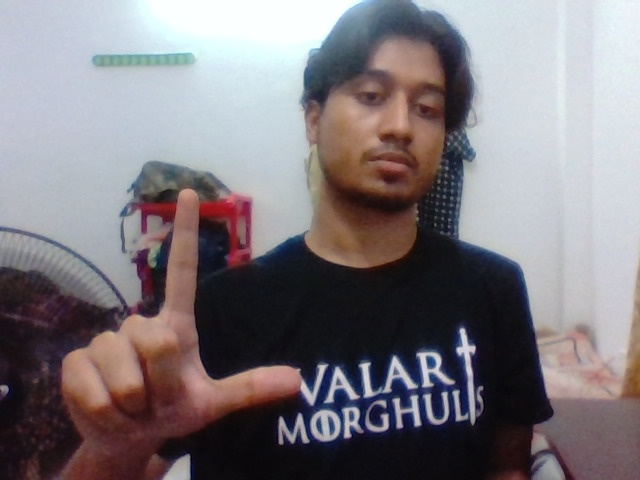L: (77, 182, 309, 430)
